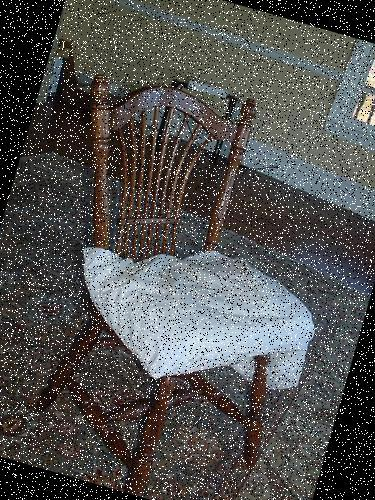Silla: (0, 56, 370, 499)
